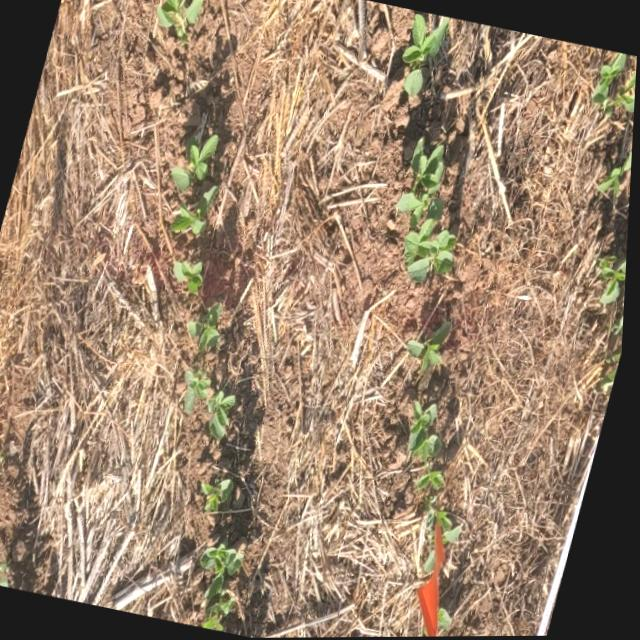soy_plant: (412, 402, 466, 570), (398, 138, 459, 283), (187, 303, 239, 442), (172, 135, 220, 236), (205, 543, 249, 631), (402, 17, 447, 95), (593, 53, 637, 118), (410, 323, 453, 389), (156, 0, 202, 44), (599, 153, 634, 198), (599, 257, 629, 306), (177, 263, 206, 297), (0, 543, 15, 586), (208, 479, 237, 498), (442, 608, 459, 637), (616, 307, 627, 336), (607, 367, 621, 389), (613, 348, 625, 365)
